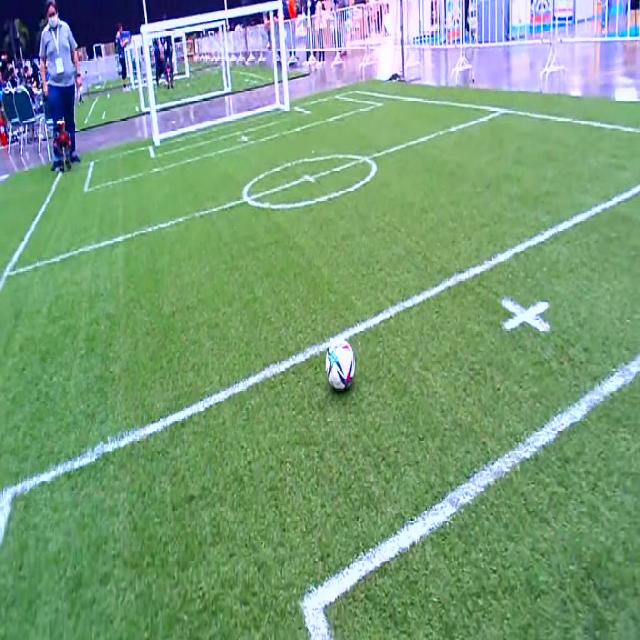ball: (325, 339, 355, 388)
